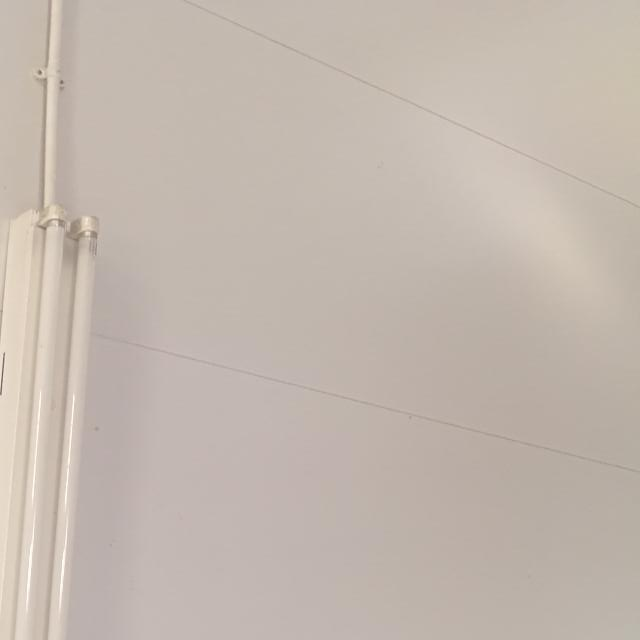fluorescent tube: (0, 200, 138, 640)
